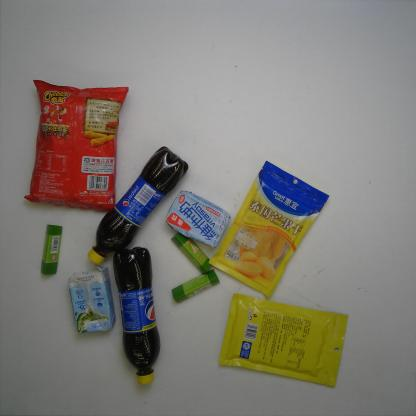Dried Fruit: (207, 159, 331, 300), (216, 292, 350, 390)
Drink: (86, 144, 190, 267), (112, 247, 162, 384)
Milk: (165, 188, 232, 251), (64, 264, 117, 338)
Puffed Food: (23, 76, 127, 213)
Stationery: (170, 231, 213, 276), (168, 268, 220, 304), (37, 224, 67, 276)
